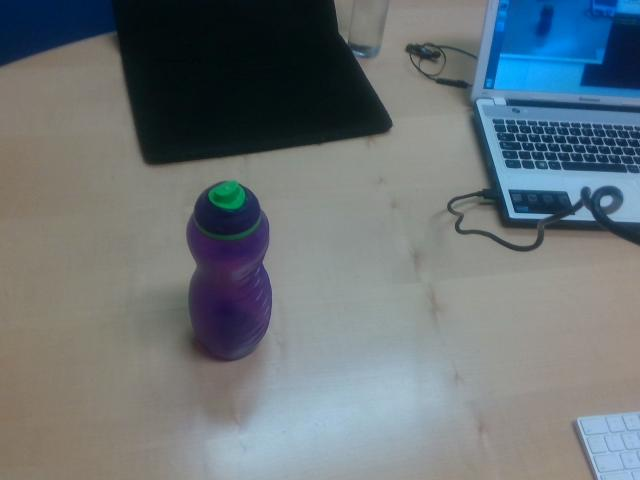bottle: (186, 182, 270, 360)
